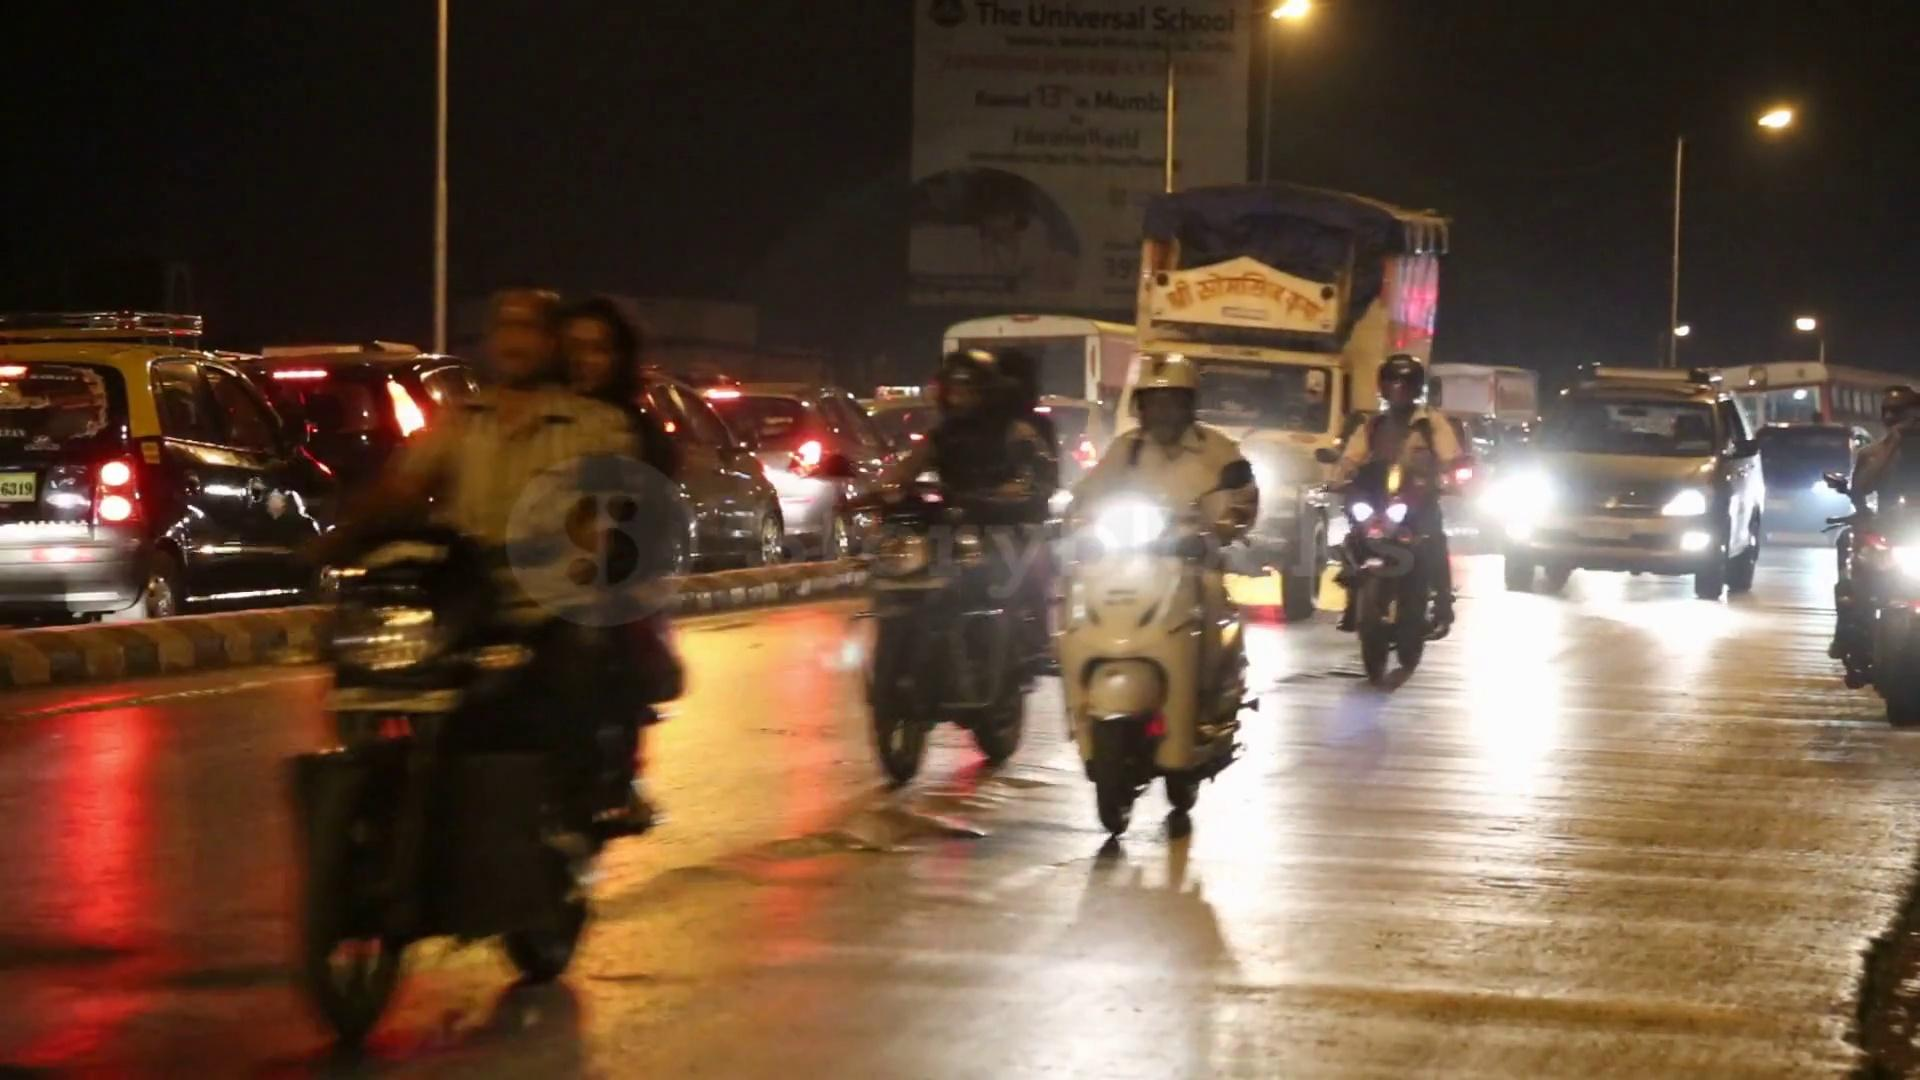rider: (279, 283, 676, 1034), (1080, 354, 1244, 859), (877, 343, 1041, 789), (1317, 351, 1463, 640), (1829, 373, 1920, 713)
with_helmate: (1129, 351, 1204, 436), (939, 357, 1004, 421), (1369, 357, 1430, 409)
without_helmate: (464, 296, 561, 377)
